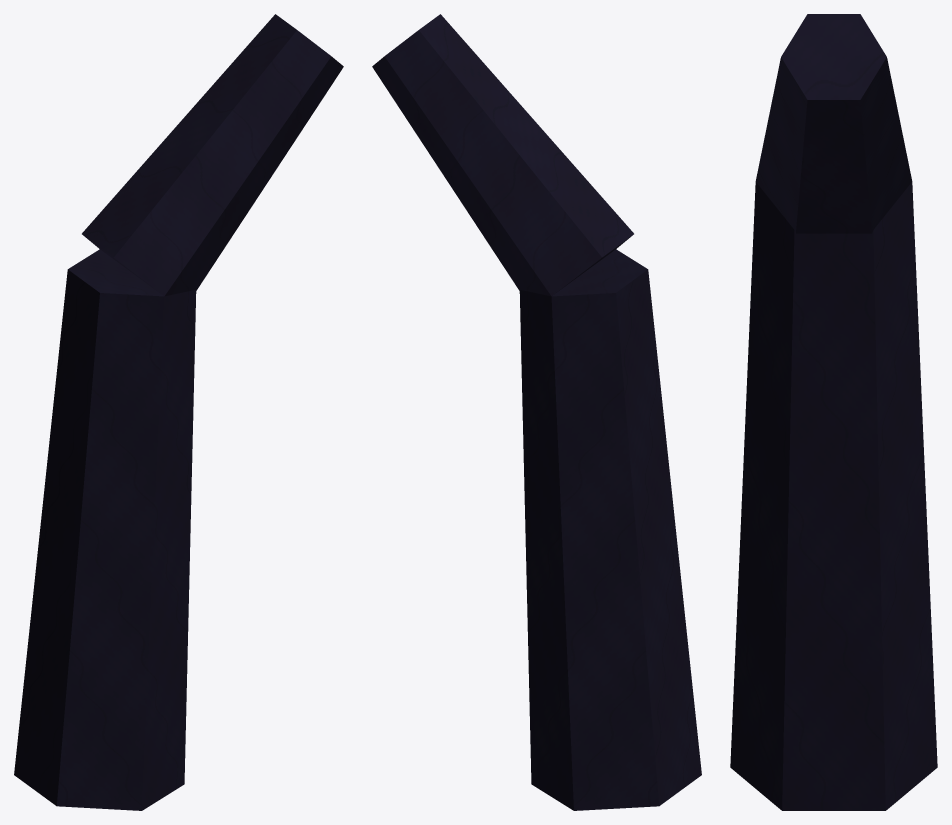
File: Ruin_FracturedArch_Pier_L.glb
3 views of the same model, side by side, from view 1: azimuth 30°, elevation 25°; view 2: azimuth 150°, elevation 25°; view 3: azimuth 270°, elevation 25° (orthographic). The views are drawn at different scales.
Visible parts, largest first — view 1: Ruin_FracturedArch_Pier_L; view 2: Ruin_FracturedArch_Pier_L; view 3: Ruin_FracturedArch_Pier_L.
Boxes of the visible parts, x1,y1,x2,y2 form: Ruin_FracturedArch_Pier_L: (14, 14, 343, 810); Ruin_FracturedArch_Pier_L: (372, 14, 701, 810); Ruin_FracturedArch_Pier_L: (730, 14, 937, 810).
Bounding box in the file's own units: 1.81 × 4.17 × 0.9.
Materials: 1 (1 with a texture image).
